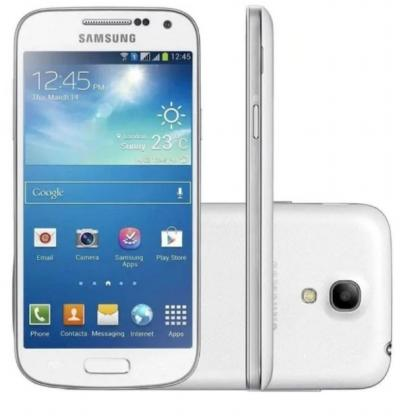SMARTPHONE: (10, 2, 204, 394), (241, 1, 279, 396)
